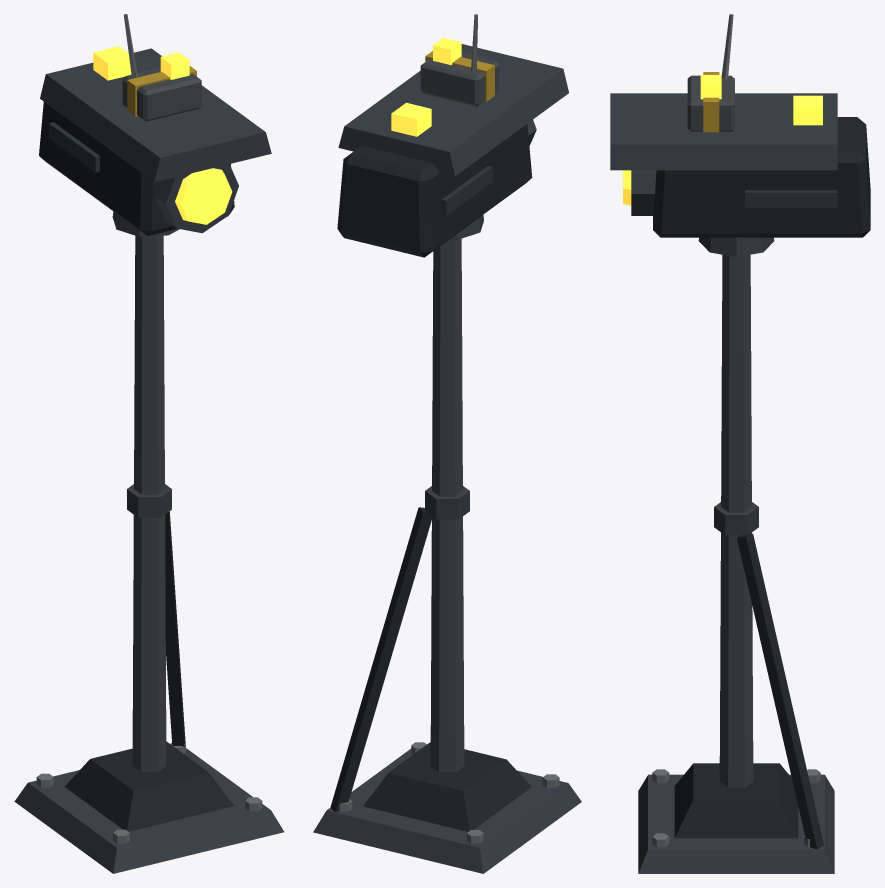
The model's file is device_camera_hacked.glb.
The picture shows the model from 3 angles, left to right: view 1: azimuth 30°, elevation 25°; view 2: azimuth 150°, elevation 25°; view 3: azimuth 270°, elevation 25°; orthographic projection.
Visible parts, largest first — view 1: mount, head, lens; view 2: mount, head; view 3: mount, head, lens.
Boxes of the visible parts, x1,y1,x2,y2 form: mount: (14,235,284,873); head: (39,14,271,236); lens: (154,164,238,233); mount: (313,238,581,873); head: (337,14,568,257); mount: (638,254,834,873); head: (610,14,870,256); lens: (623,170,656,215).
Size of the model in its own units: 0.7 by 3.17 by 0.9282.
